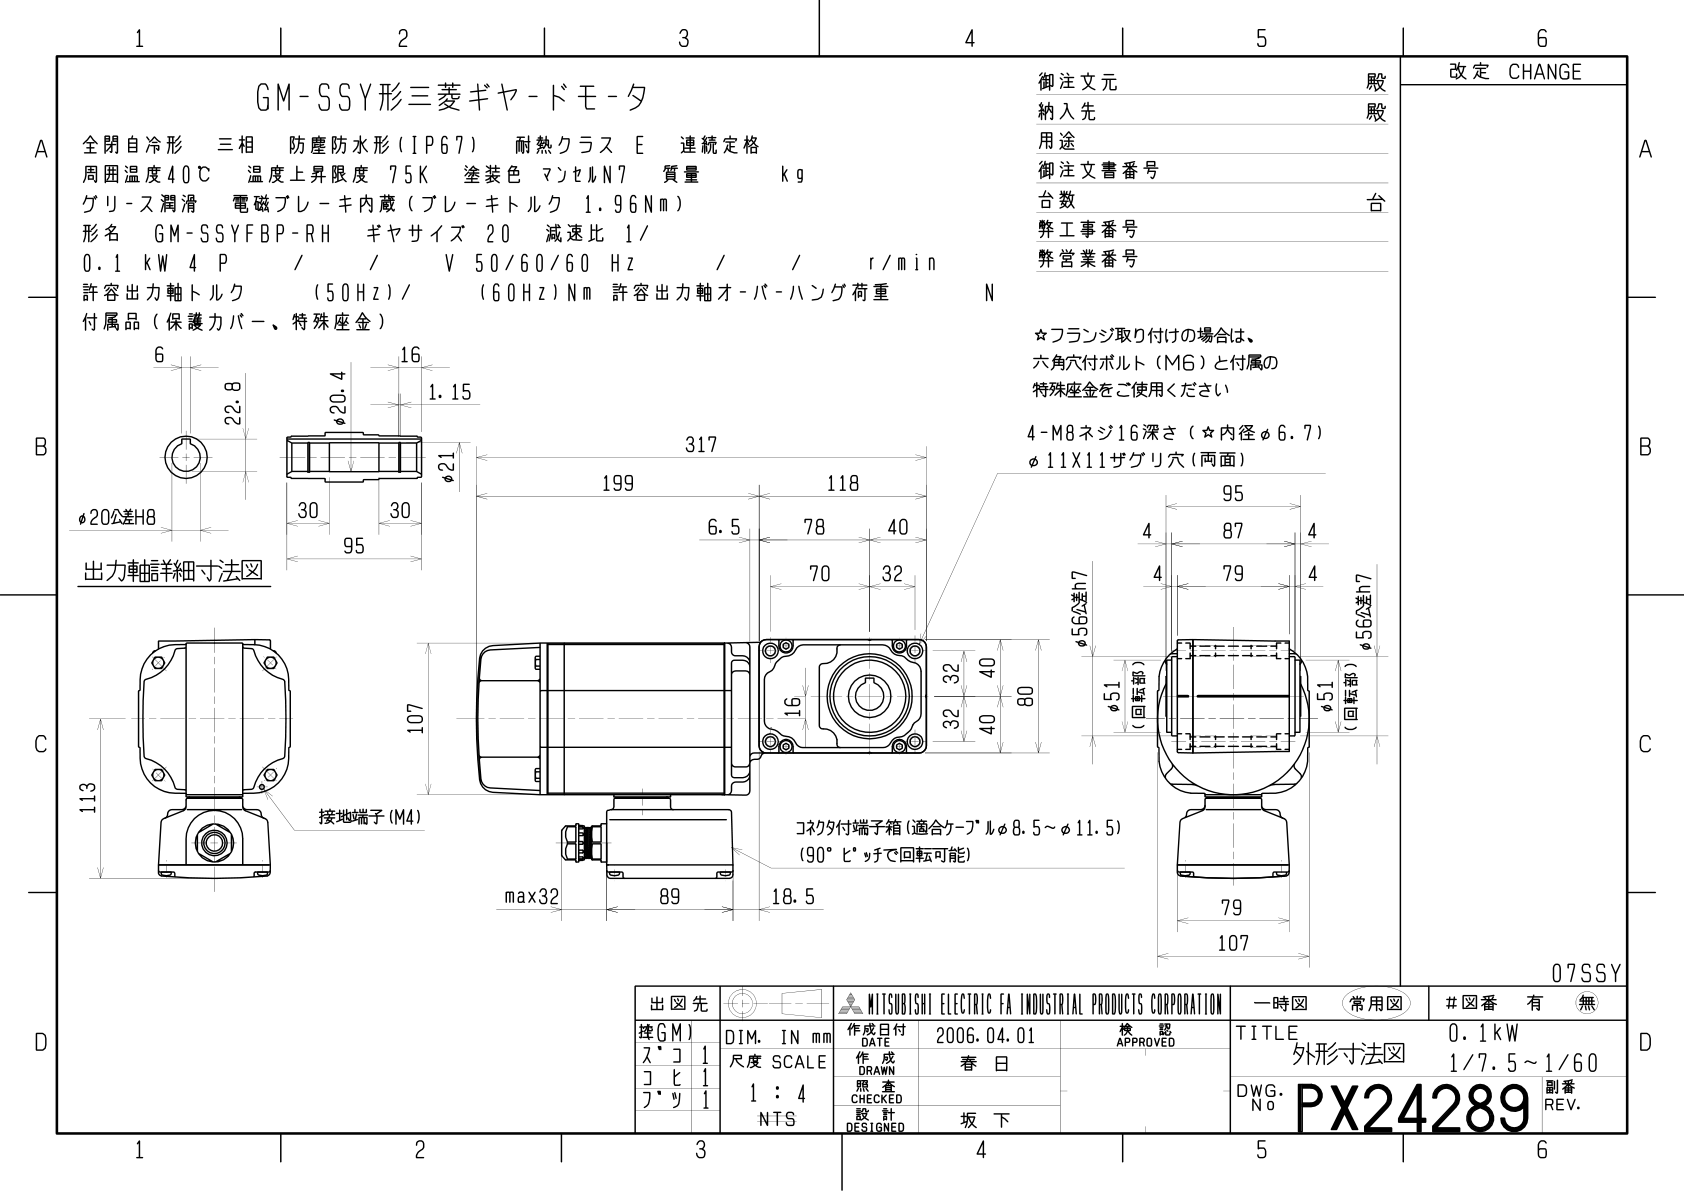GM_SSY_IP67_三相: (12, 10, 1684, 1191)
